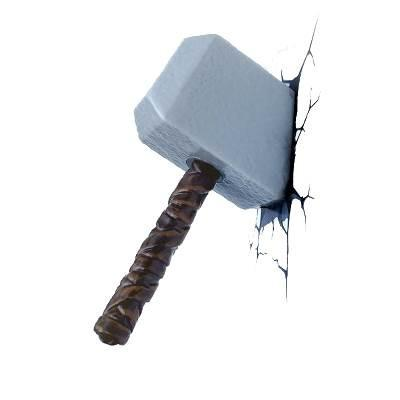THOR Hammer: (90, 36, 321, 333)
